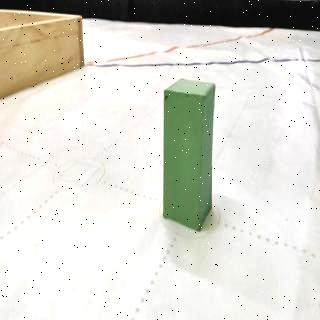greenbox: (163, 76, 217, 232)
